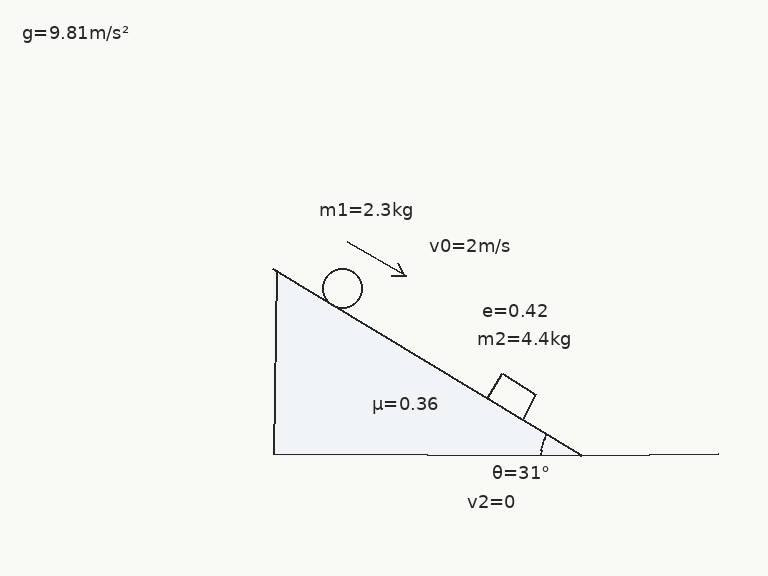ball: (320, 266, 364, 310)
block: (485, 372, 538, 421)
ramp: (271, 268, 583, 457)
